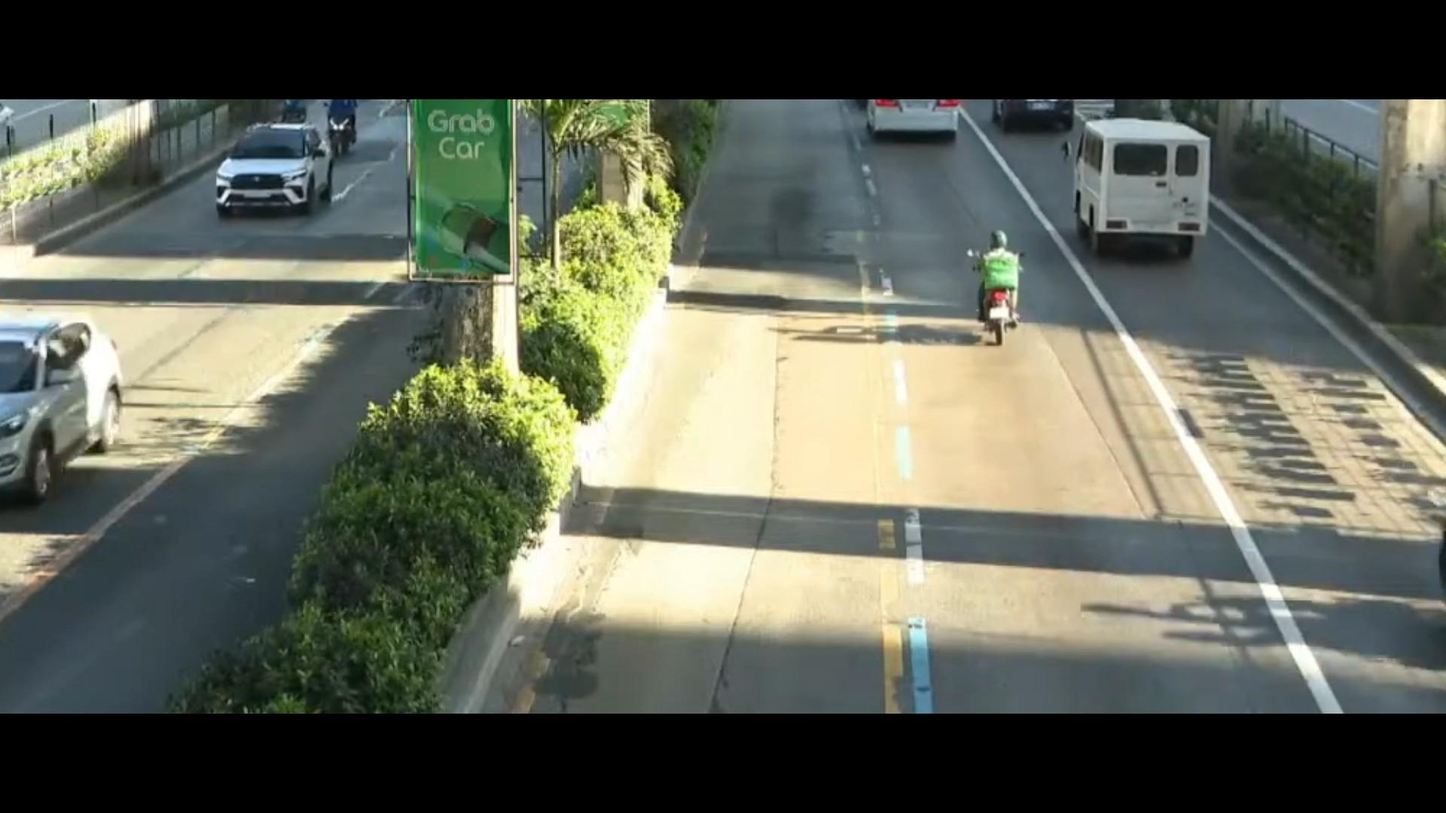Motorcycle: (966, 223, 1036, 365), (320, 87, 373, 149)
Multicab: (1060, 117, 1239, 268)
SUV: (0, 301, 142, 502), (210, 125, 349, 233)
